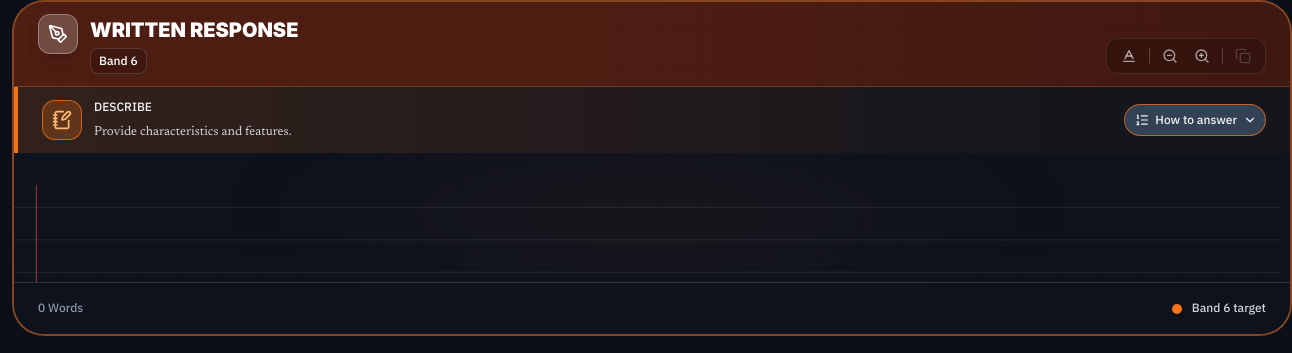
Test case: editor formatting tools › reveals them on the toggle, and folds them away again
Click the button named "formatting". click: (1129, 56)
box: [1115,42,1143,70]
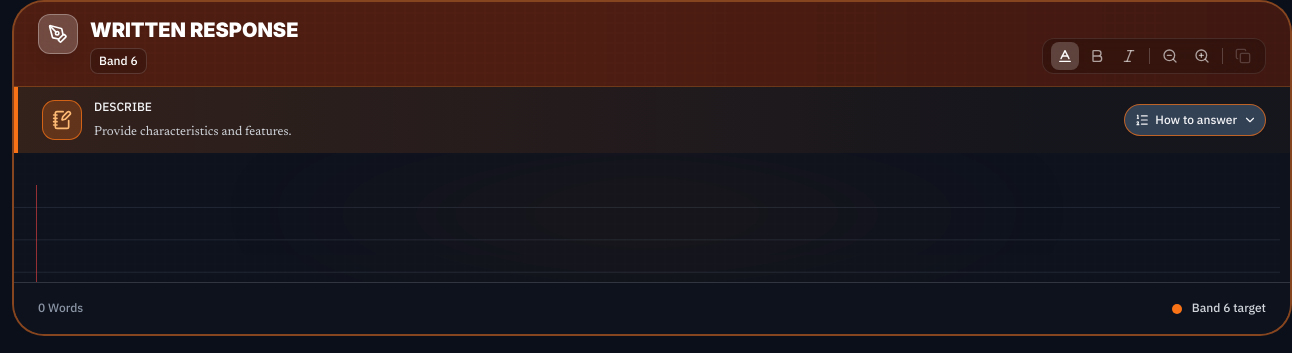
Now the button named "Bold" is shown, box [1083,42,1111,70]
Now the button named "Italic" is shown, box [1115,42,1143,70]
Now the button named "hide formatting" is shown
Click the button named "hide formatting". click: (1065, 56)
box: [1051,42,1079,70]
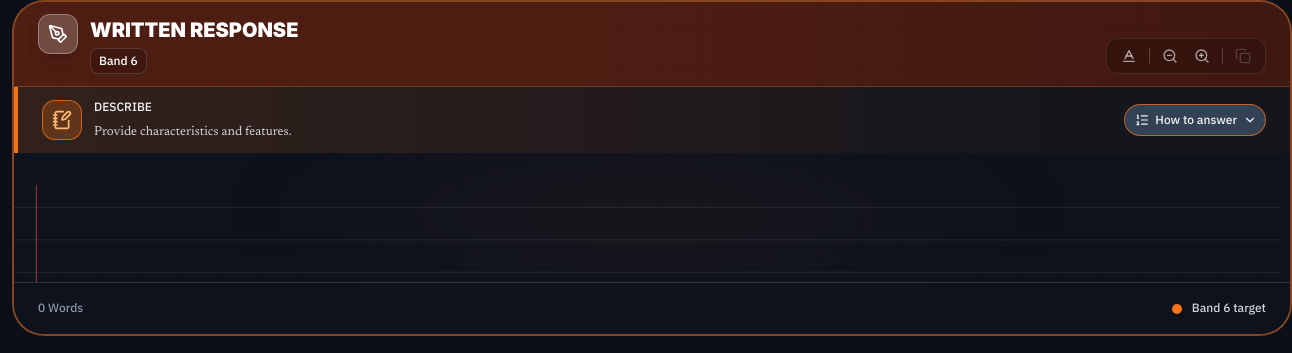
Now the button "Bold" is gone
